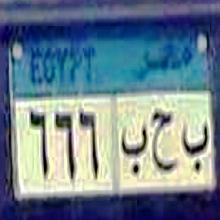6: (53, 108, 79, 181), (78, 106, 103, 178), (28, 105, 51, 183)
7aa: (151, 108, 178, 177)
baa: (180, 118, 210, 178), (119, 121, 149, 177)
